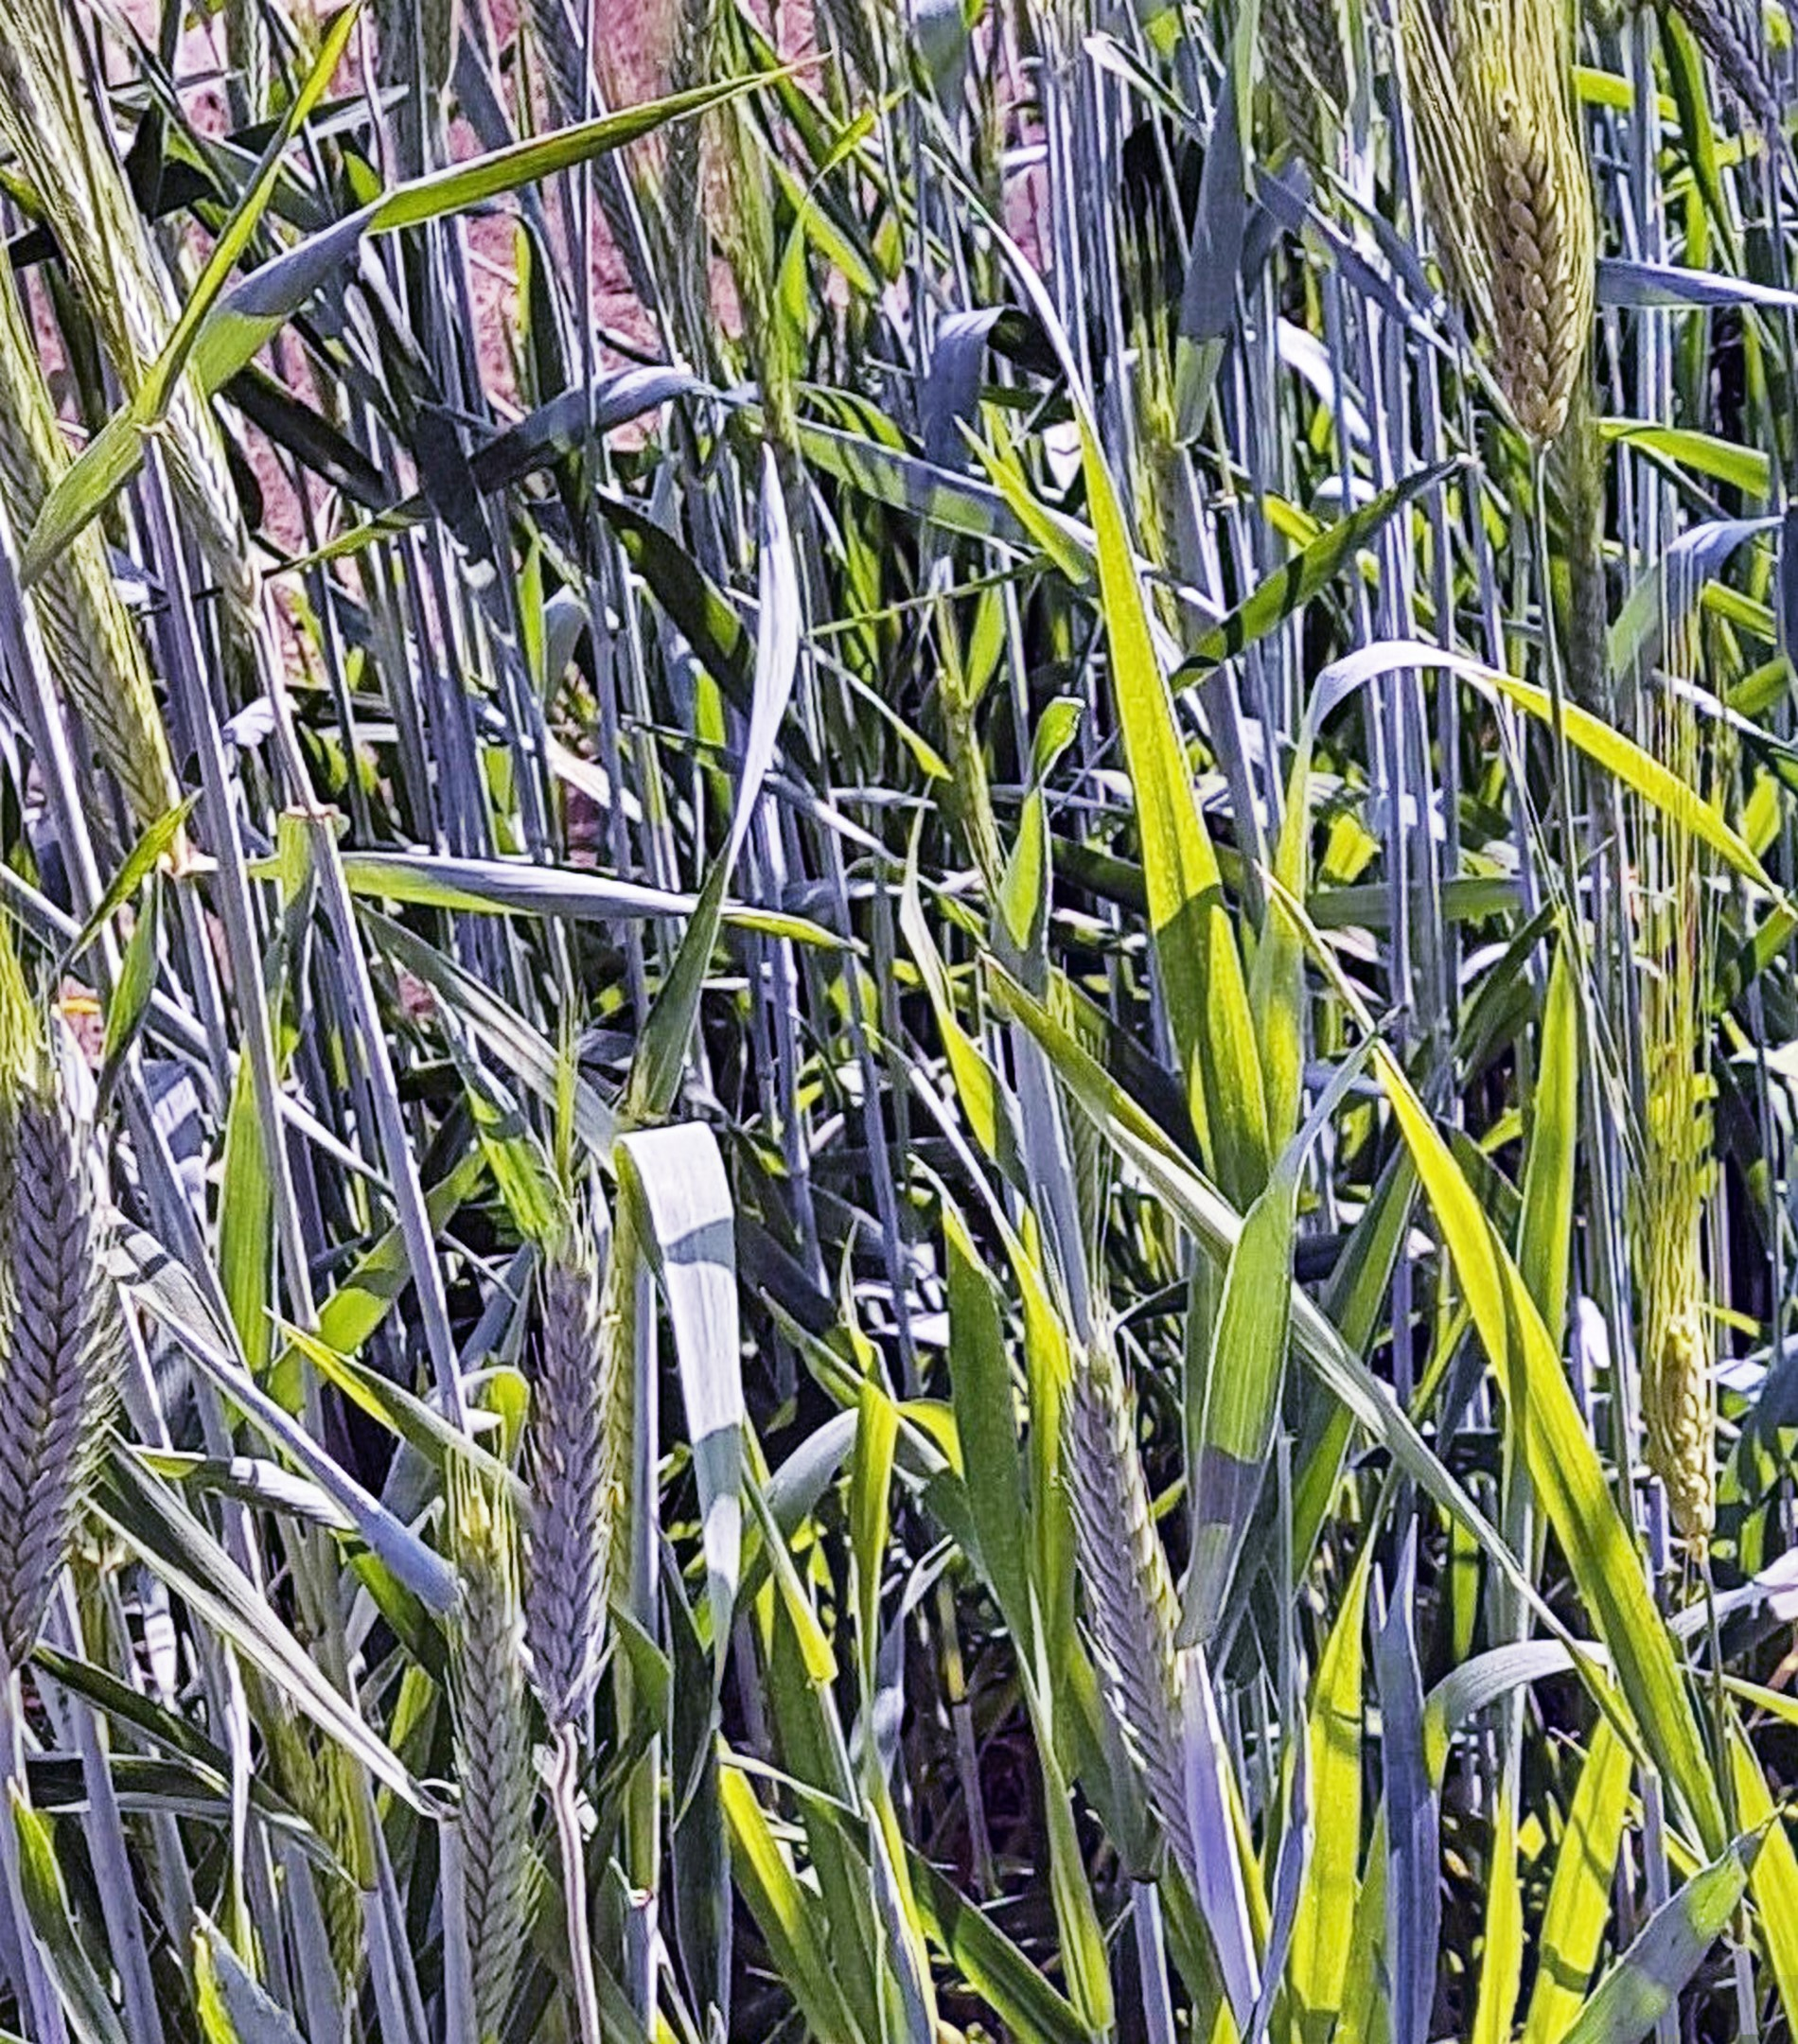Healthy Wheat: (1033, 1338, 1222, 1825), (2, 1081, 148, 1705), (511, 1225, 657, 1698)
